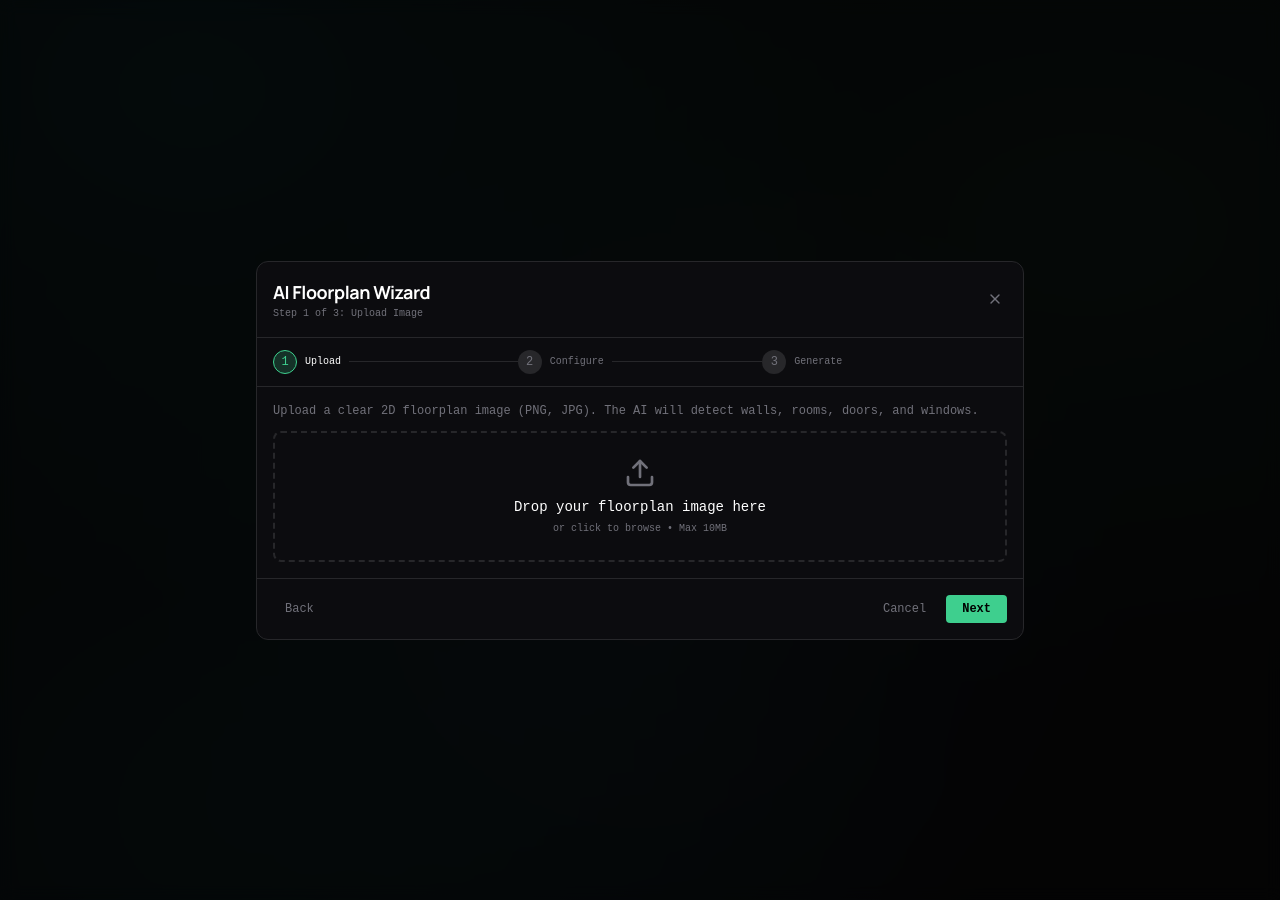
Test case: AIFloorplanWizard › disables Next button when no image uploaded on step 1
Click the button "Next": coordinates (977, 608) [946,594,1007,622]
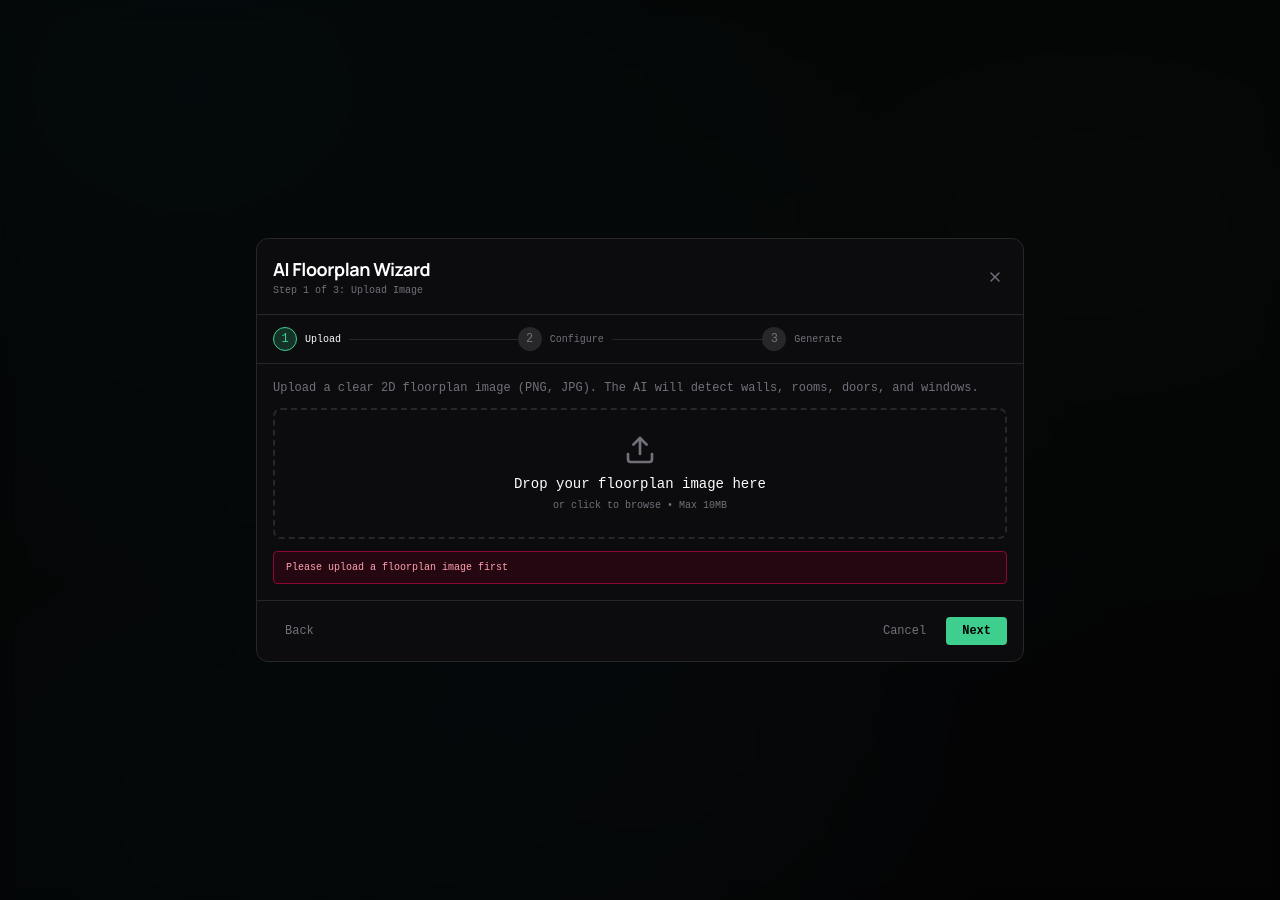
Expected: the text "Please upload a floorplan image first" is shown, [273,551,1007,584]
